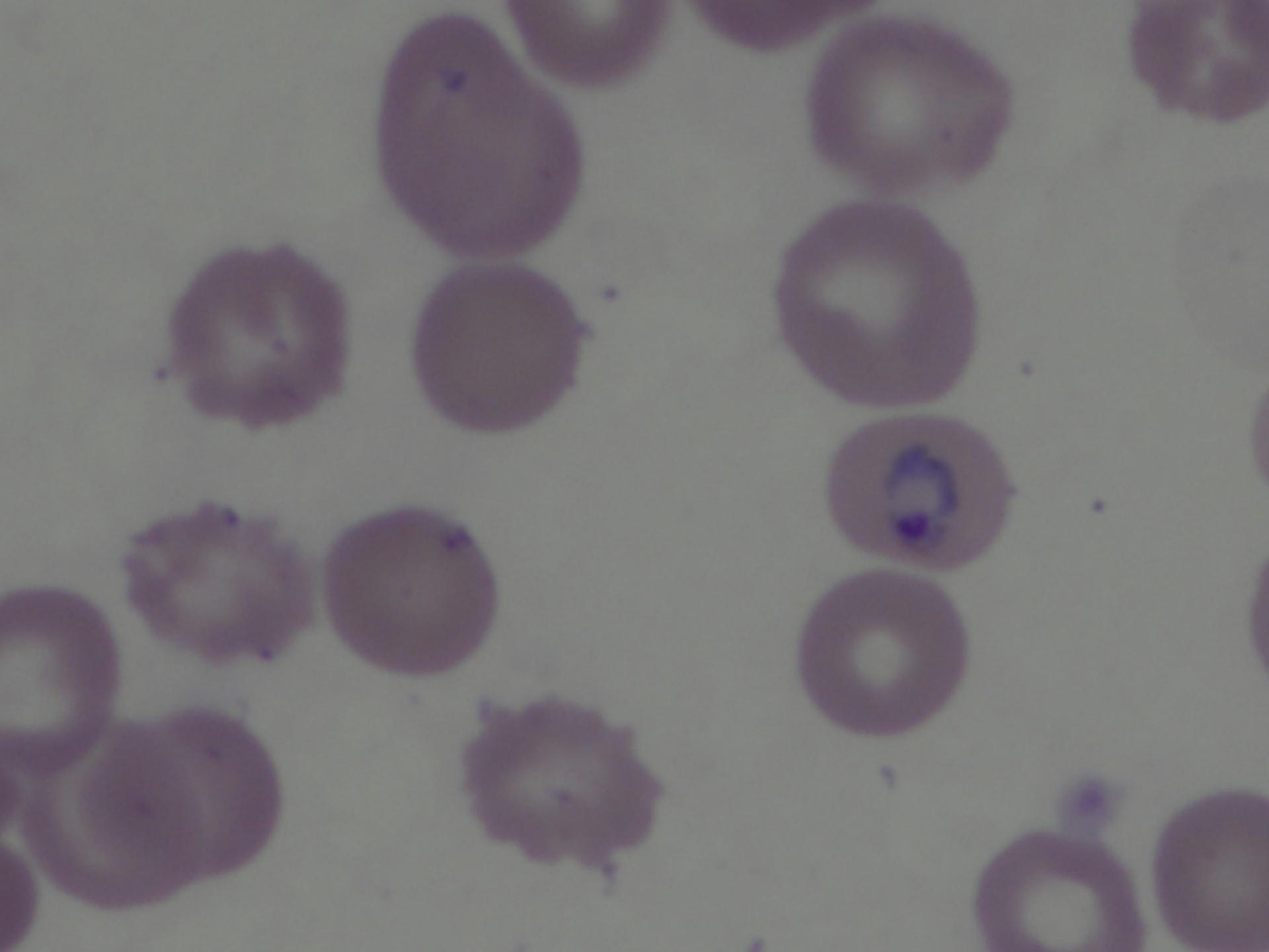Infected: (828, 413, 1016, 569)
Uninfected: (375, 21, 577, 267), (784, 197, 981, 410), (806, 14, 1015, 190), (458, 697, 665, 862), (22, 716, 194, 914), (174, 245, 350, 428), (123, 505, 313, 663), (419, 261, 586, 435), (326, 514, 498, 679), (800, 571, 964, 742), (137, 703, 276, 884), (0, 587, 120, 771), (974, 833, 1137, 952), (1157, 785, 1269, 952), (1128, 0, 1269, 116)
